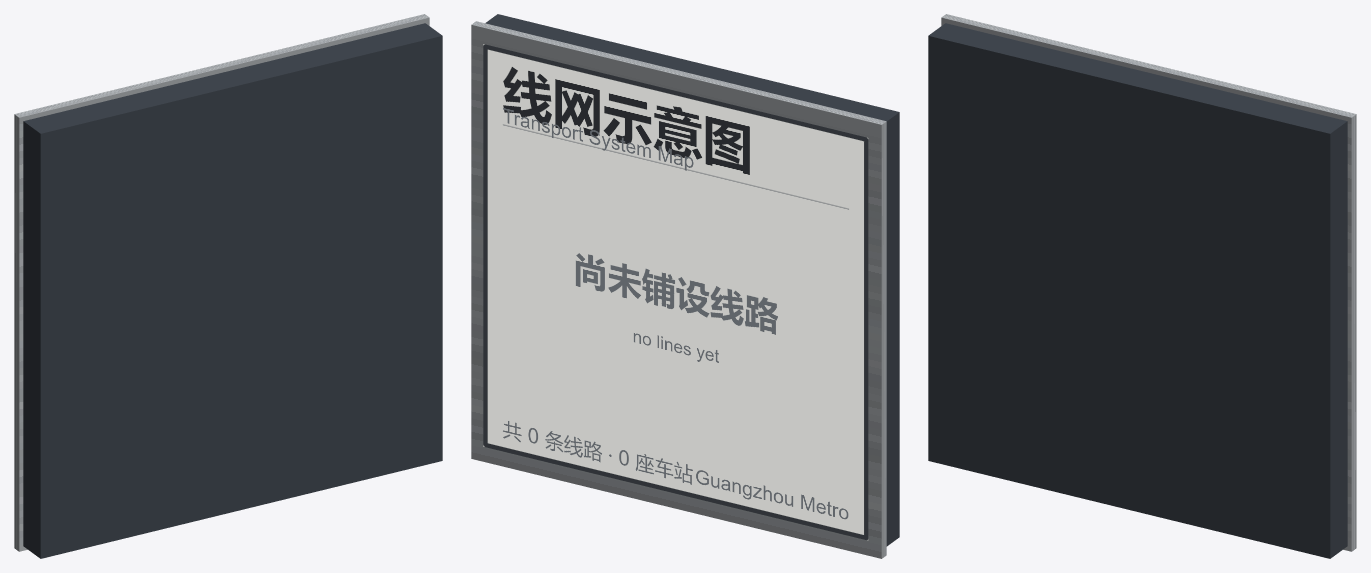
Rendered from linemap-wall.glb.
3 views of the same model, side by side, from view 1: azimuth 30°, elevation 25°; view 2: azimuth 150°, elevation 25°; view 3: azimuth 330°, elevation 25° (orthographic).
Visible parts, largest first — view 1: LinemapWall; view 2: LinemapWall; view 3: LinemapWall.
Part boxes in pixels (x1,y1,x2,y2): LinemapWall: [14, 14, 442, 558]; LinemapWall: [471, 14, 899, 558]; LinemapWall: [928, 14, 1356, 558].
Bounding box in the file's own units: 1.92 × 1.94 × 0.185.
3 materials, 2 textured.
